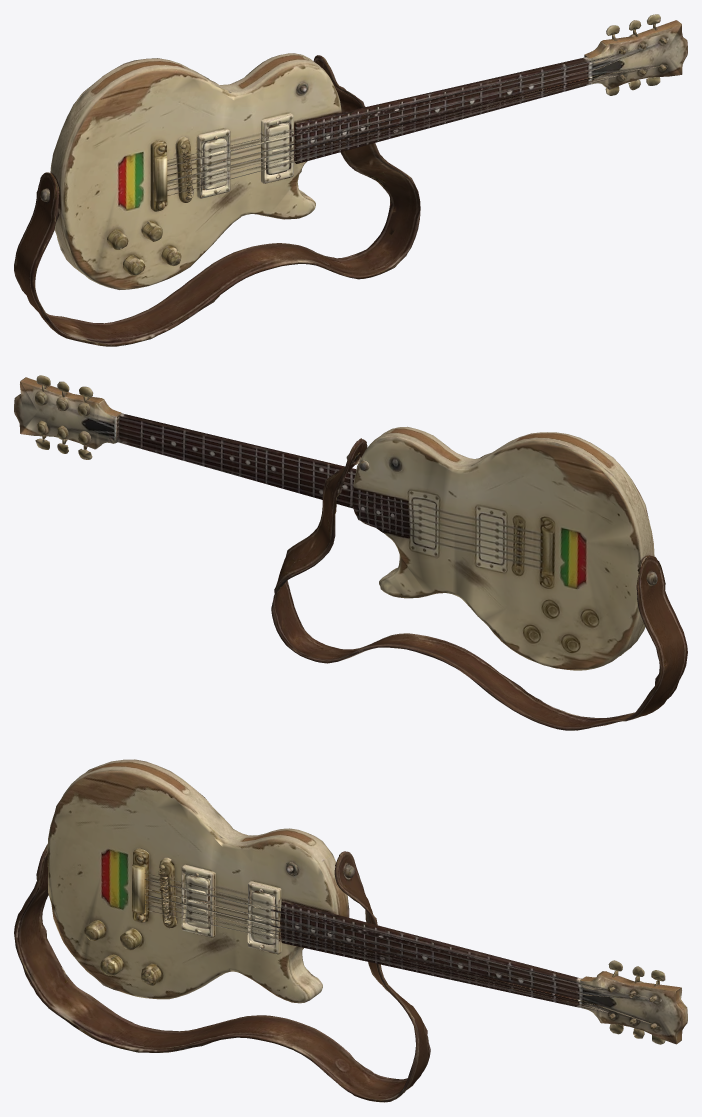
Rendered from marley_guitar.glb.
3 renders of one model, top to bottom at view 1: azimuth 30°, elevation 25°; view 2: azimuth 150°, elevation 25°; view 3: azimuth 330°, elevation 25°, orthographic. The views are drawn at different scales.
Size of the model in its own units: 0.9536 by 0.3819 by 0.0854.
1 material, 1 textured.
